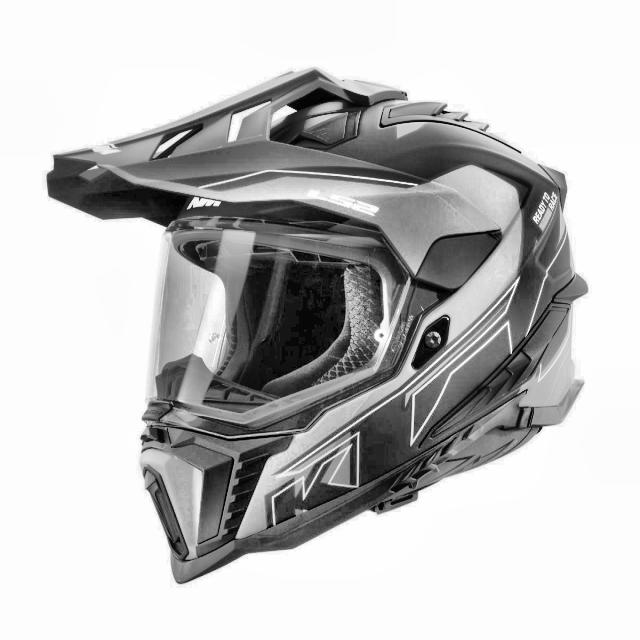Helmet: (32, 55, 595, 600)
